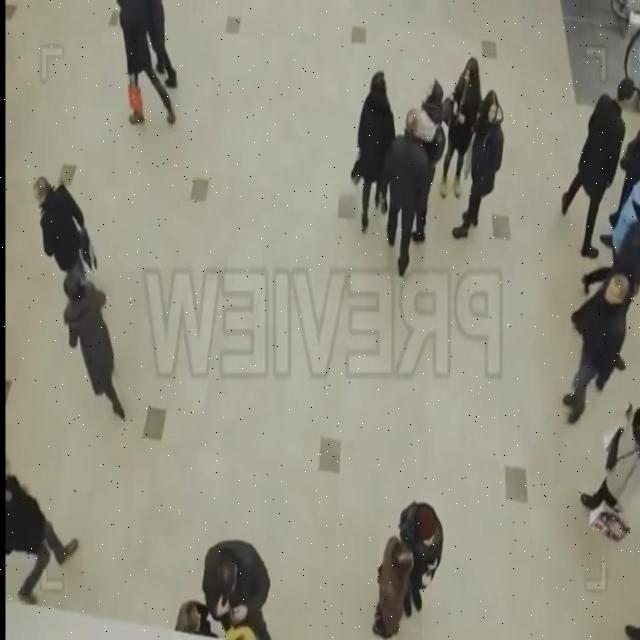humans: (557, 72, 636, 264), (558, 263, 632, 425), (64, 263, 127, 428), (452, 87, 506, 238), (379, 109, 426, 282), (350, 66, 396, 236), (578, 403, 640, 527), (436, 57, 481, 201), (124, 3, 176, 122), (208, 536, 271, 634), (415, 69, 447, 247), (32, 170, 89, 265), (369, 531, 416, 640), (399, 500, 444, 606), (146, 3, 178, 90), (168, 595, 212, 640)
